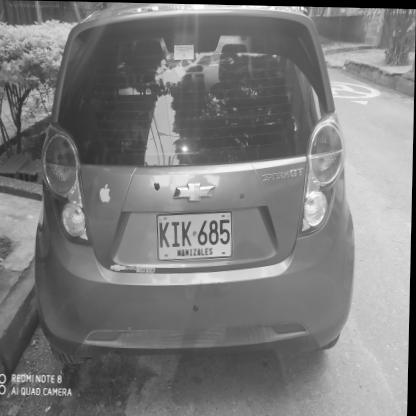placa: (153, 208, 238, 263)
